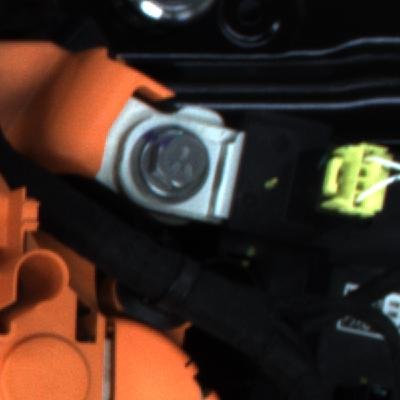nut_b: (121, 117, 212, 207)
